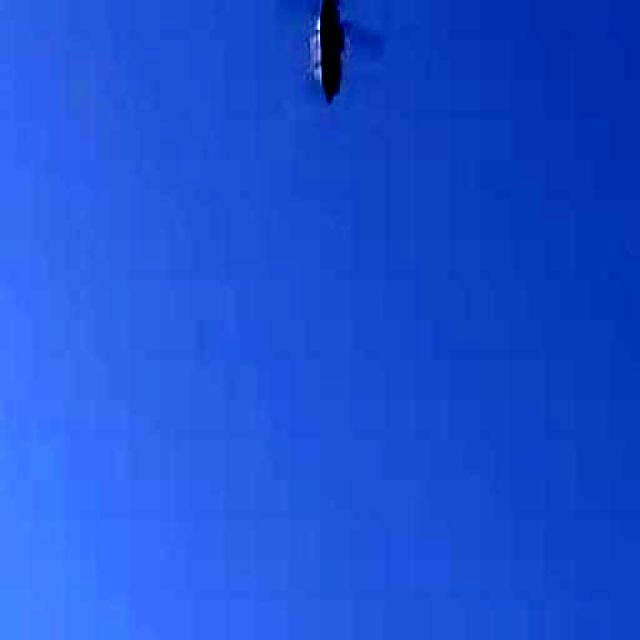drone: (268, 0, 396, 118)
